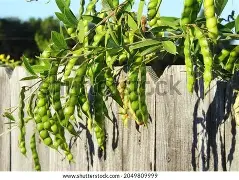crops: (1, 1, 237, 171)
